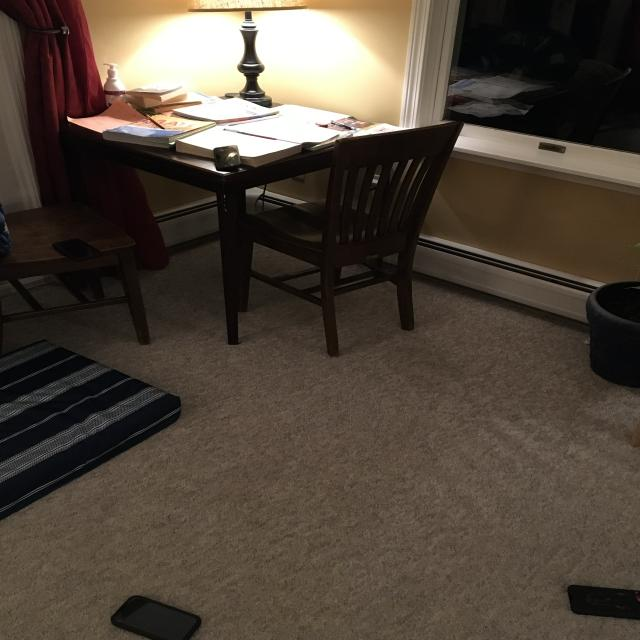pen: (213, 145, 242, 171)
